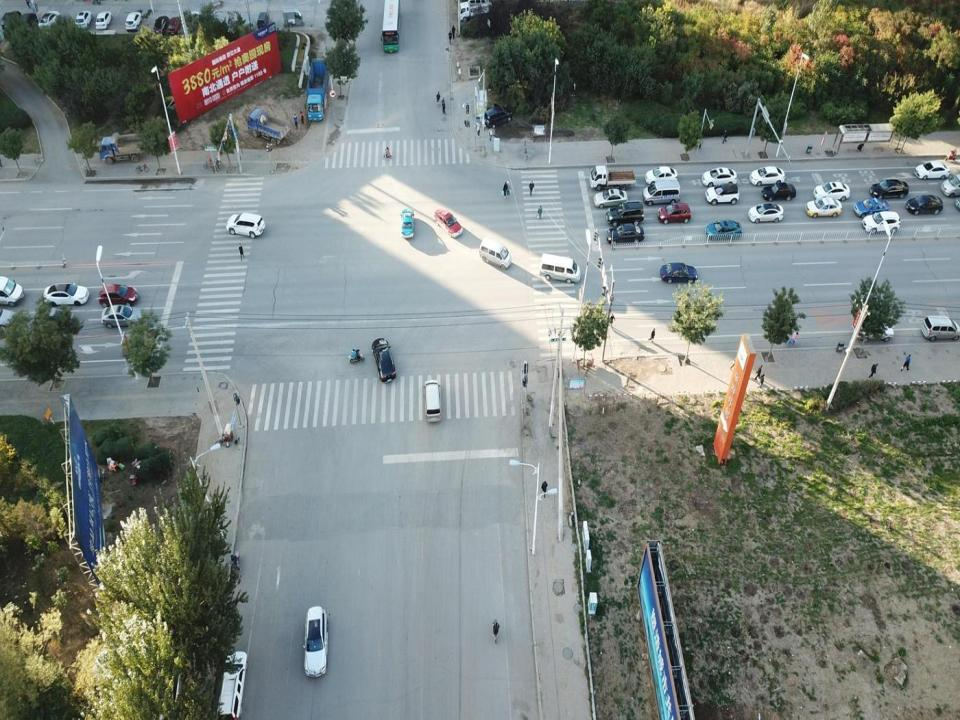bus: (382, 0, 400, 52)
car: (303, 606, 329, 680), (856, 310, 895, 342), (33, 307, 76, 336), (371, 338, 397, 383), (102, 302, 141, 332), (43, 283, 90, 306), (226, 211, 266, 238), (606, 201, 644, 228), (605, 223, 646, 247), (97, 286, 138, 310), (432, 208, 464, 238), (659, 202, 694, 227), (862, 211, 898, 235), (706, 183, 741, 207), (660, 263, 698, 285), (854, 195, 890, 218), (806, 198, 843, 220), (705, 221, 741, 243), (748, 203, 784, 225), (702, 167, 739, 188), (814, 182, 850, 203), (904, 195, 943, 214), (870, 179, 908, 198), (762, 183, 797, 203), (594, 188, 627, 209), (484, 104, 513, 127), (748, 166, 785, 184), (643, 166, 678, 185), (915, 162, 950, 181), (39, 7, 59, 36), (401, 210, 414, 241), (96, 8, 112, 31), (152, 16, 168, 38), (74, 10, 92, 28), (126, 12, 141, 32), (168, 15, 180, 36)
truck: (99, 130, 149, 164), (246, 109, 289, 145), (306, 57, 329, 124), (588, 165, 636, 193), (459, 0, 488, 21)
van: (216, 651, 246, 718), (538, 252, 582, 283), (478, 238, 511, 268), (422, 378, 444, 423), (921, 317, 960, 342), (643, 182, 681, 206), (0, 277, 24, 309), (283, 9, 305, 28), (942, 173, 960, 196), (257, 11, 268, 32)
